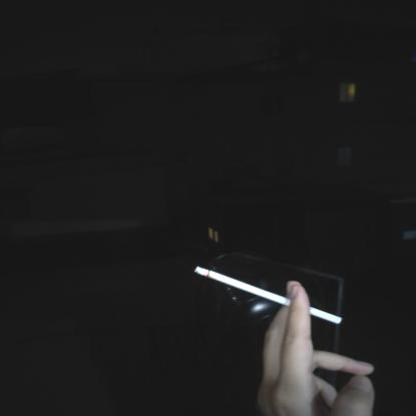cigarette: (192, 264, 346, 326)
